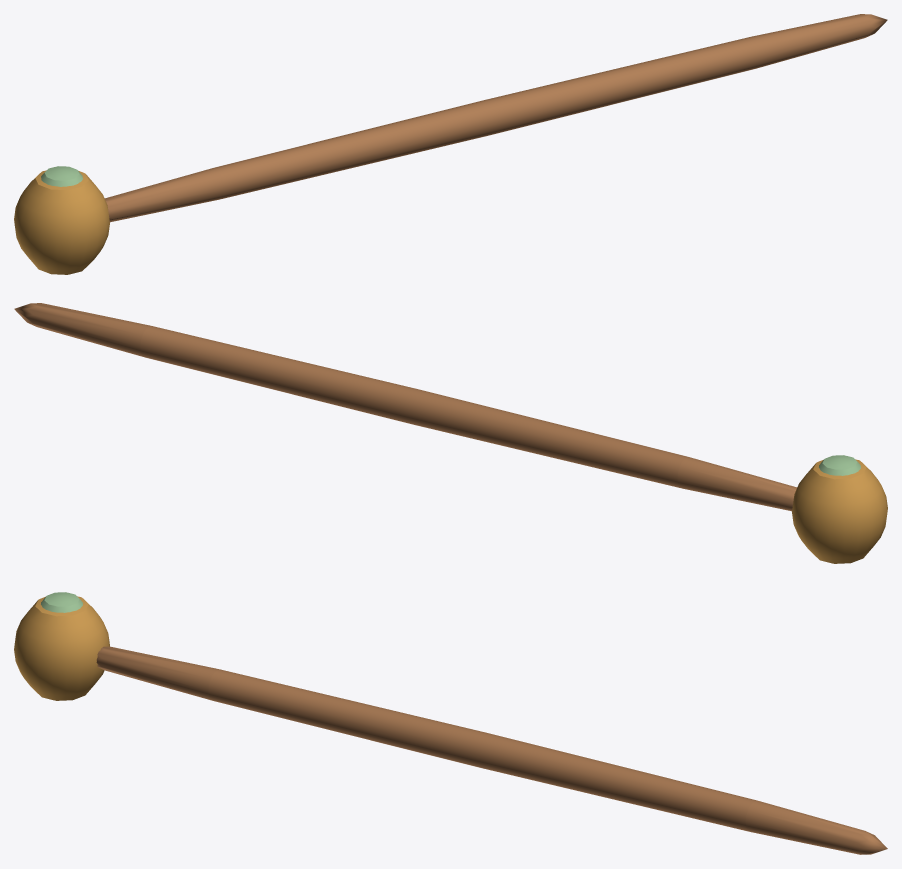
Rendered from weapon_staff.glb.
3 renders of one model, top to bottom at view 1: azimuth 30°, elevation 25°; view 2: azimuth 150°, elevation 25°; view 3: azimuth 330°, elevation 25°, orthographic.
Parts seen in each view (by area): view 1: weapon_staff; view 2: weapon_staff; view 3: weapon_staff.
Boxes of the visible parts, x1,y1,x2,y2 form: weapon_staff: (14, 14, 887, 274); weapon_staff: (14, 303, 887, 563); weapon_staff: (14, 592, 887, 854).
Size of the model in its own units: 1.08 by 0.116 by 0.1037.
